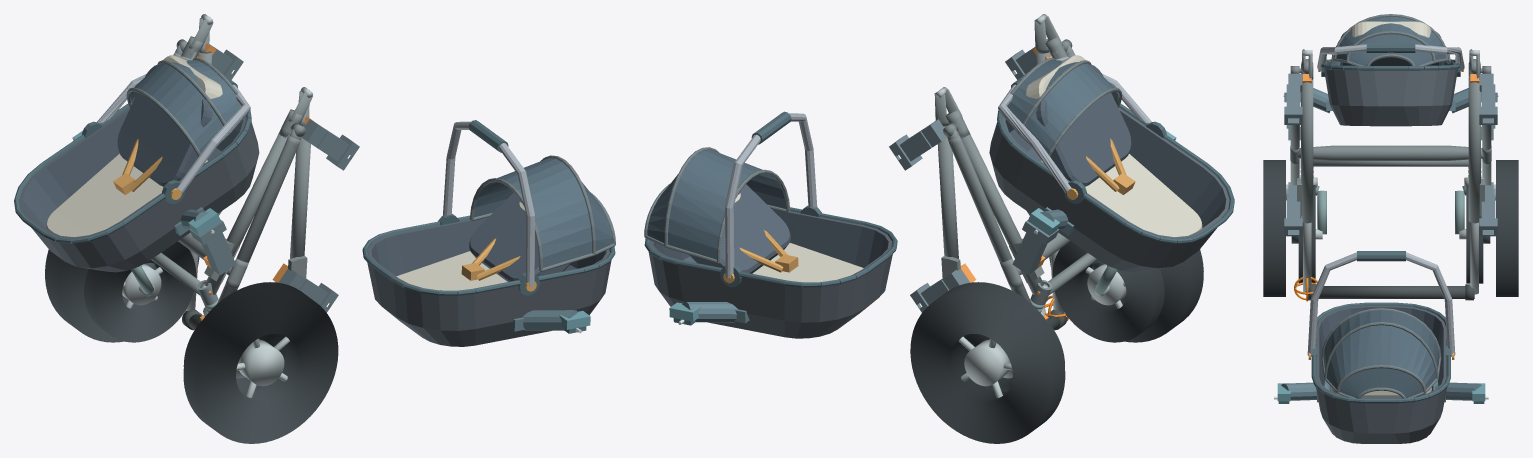
Rendered from D04_w550_state3_wheel_L.glb.
3 views of the same model, side by side, from view 1: azimuth 30°, elevation 25°; view 2: azimuth 150°, elevation 25°; view 3: azimuth 270°, elevation 25° (orthographic). The views are drawn at different scales.
Visible parts, largest first — view 1: D04_Upper, D04_Lower, RL_tire.004, FR_tire.004, RR_tire.004, V46_rear_leg_-1.005, main_lower_-1.005, main_upper_-1.005, D04_Upper_Mount_H, RL_sealed_hub.004, Universal_Cabin_Receiver_M_-1, Universal_Cabin_Receiver_L_-1 (+5 smaller); view 2: D04_Upper, D04_Lower, RR_tire.004, FL_tire.004, RL_tire.004, V46_rear_leg_1.005, main_lower_1.005, main_upper_1.005, D04_Upper_Mount_H, RR_sealed_hub.004, Universal_Cabin_Receiver_M_1, Universal_Cabin_Receiver_L_1 (+5 smaller); view 3: D04_Upper, D04_Lower, RL_tire.004, RR_tire.004, V46_rearbar.005, round_handle.004, main_upper_1.005, main_upper_-1.005, D04_Upper_Mount_H, front_fixed_round_tube.004, Universal_Cabin_Receiver_M_-1, Universal_Cabin_Receiver_M_1 (+11 smaller).
Part boxes in pixels (x1,y1,x2,y2): D04_Upper: (362,120,615,346); D04_Lower: (14,55,259,272); RL_tire.004: (183,282,338,443); FR_tire.004: (84,241,196,342); RR_tire.004: (45,249,199,342); V46_rear_leg_-1.005: (217,135,300,303); main_lower_-1.005: (205,131,291,294); main_upper_-1.005: (290,126,310,258); D04_Upper_Mount_H: (510,310,590,333); RL_sealed_hub.004: (238,339,284,386); Universal_Cabin_Receiver_M_-1: (301,119,359,170); Universal_Cabin_Receiver_L_-1: (189,220,236,275); D04_Upper: (644,111,897,338); D04_Lower: (989,55,1234,272); RR_tire.004: (910,282,1065,443); FL_tire.004: (1052,241,1164,342); RL_tire.004: (1049,249,1203,342); V46_rear_leg_1.005: (948,135,1031,303); main_lower_1.005: (957,131,1043,294); main_upper_1.005: (937,126,958,258); D04_Upper_Mount_H: (669,302,749,325); RR_sealed_hub.004: (964,339,1010,386); Universal_Cabin_Receiver_M_1: (889,119,947,170); Universal_Cabin_Receiver_L_1: (1012,220,1059,275); D04_Upper: (1307,251,1455,443); D04_Lower: (1317,14,1464,126); RL_tire.004: (1263,160,1285,296); RR_tire.004: (1496,160,1518,296); V46_rearbar.005: (1297,145,1484,160); round_handle.004: (1318,286,1474,298); main_upper_1.005: (1468,79,1480,223); main_upper_-1.005: (1301,79,1313,223); D04_Upper_Mount_H: (1274,380,1488,403); front_fixed_round_tube.004: (1313,159,1468,166); Universal_Cabin_Receiver_M_-1: (1284,73,1302,124); Universal_Cabin_Receiver_M_1: (1479,73,1497,124).
Size of the model in its own units: 1.42 by 0.7843 by 0.671.
